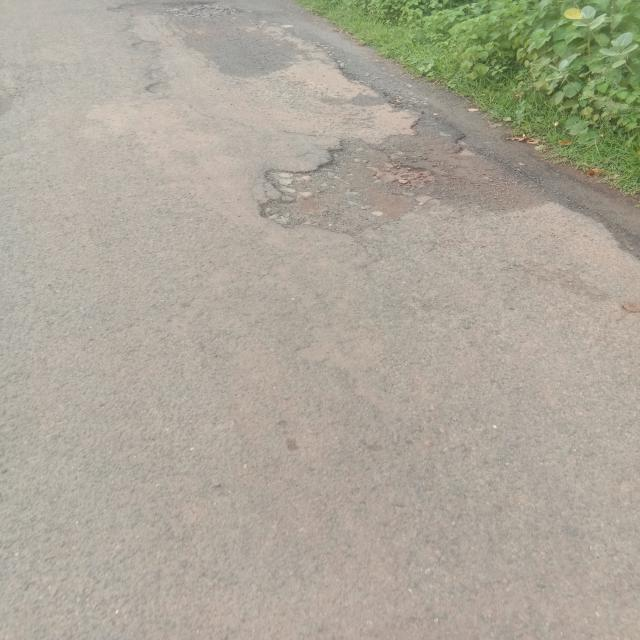potholes: (255, 111, 564, 231), (99, 6, 311, 65)
